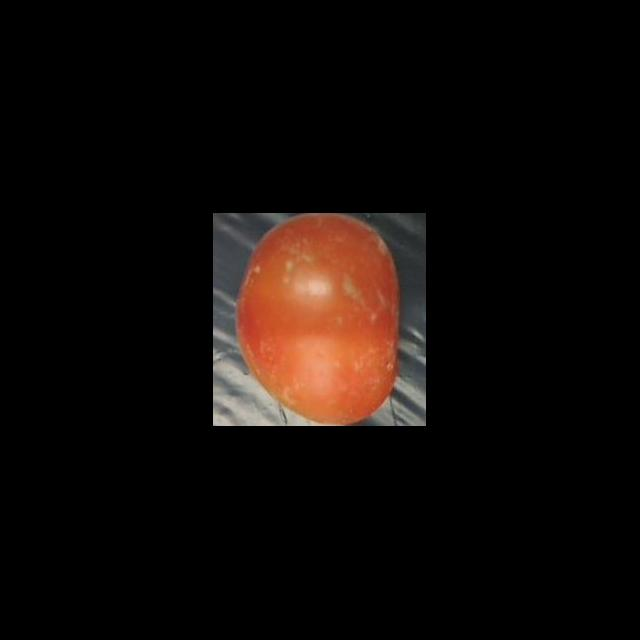tomato: (237, 214, 398, 424)
